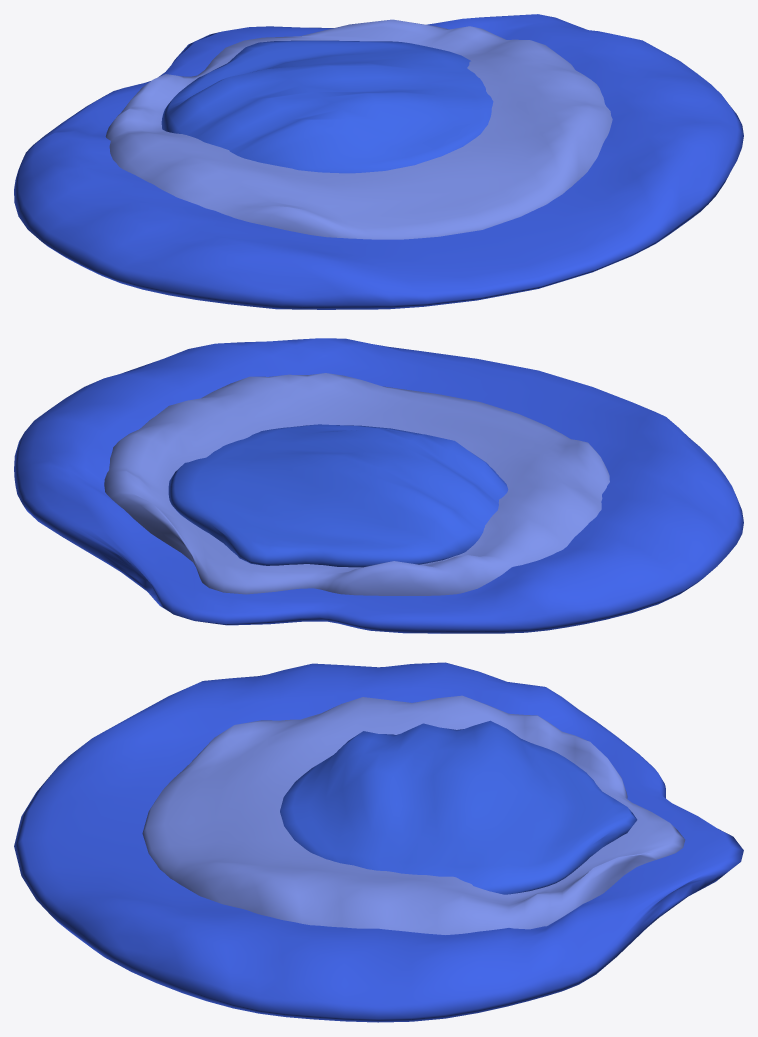
Rendered from Lago2_parte1_v1.fbx.
The picture shows the model from 3 angles, top to bottom: view 1: azimuth 30°, elevation 25°; view 2: azimuth 150°, elevation 25°; view 3: azimuth 270°, elevation 25°; orthographic projection. The views are drawn at different scales.
Visible parts, largest first — view 1: Plane.004, Plane.005, Plane.001; view 2: Plane.004, Plane.005, Plane.001; view 3: Plane.004, Plane.005, Plane.001.
Boxes of the visible parts, box(x1,y1,x2,y2) form: Plane.004: box(14, 14, 743, 309); Plane.005: box(105, 19, 612, 239); Plane.001: box(161, 40, 493, 173); Plane.004: box(14, 338, 743, 633); Plane.005: box(104, 373, 609, 595); Plane.001: box(168, 424, 508, 567); Plane.004: box(14, 662, 743, 1022); Plane.005: box(142, 695, 685, 934); Plane.001: box(280, 720, 637, 894).
Size of the model in its own units: 3217 by 365 by 2868.
